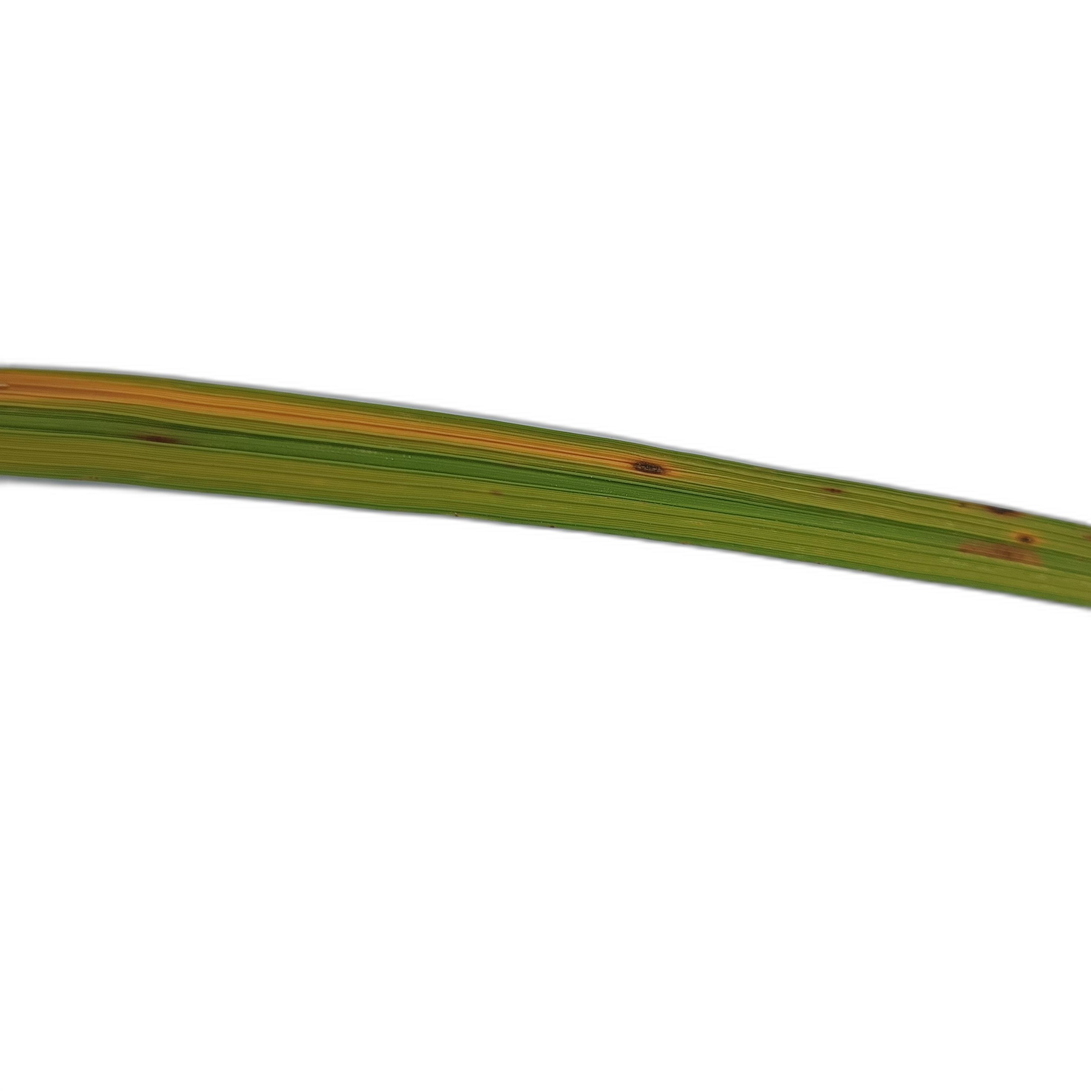LEAF: (0, 368, 1091, 608)
LEAF BLAST: (631, 460, 666, 475), (1012, 532, 1040, 546)
